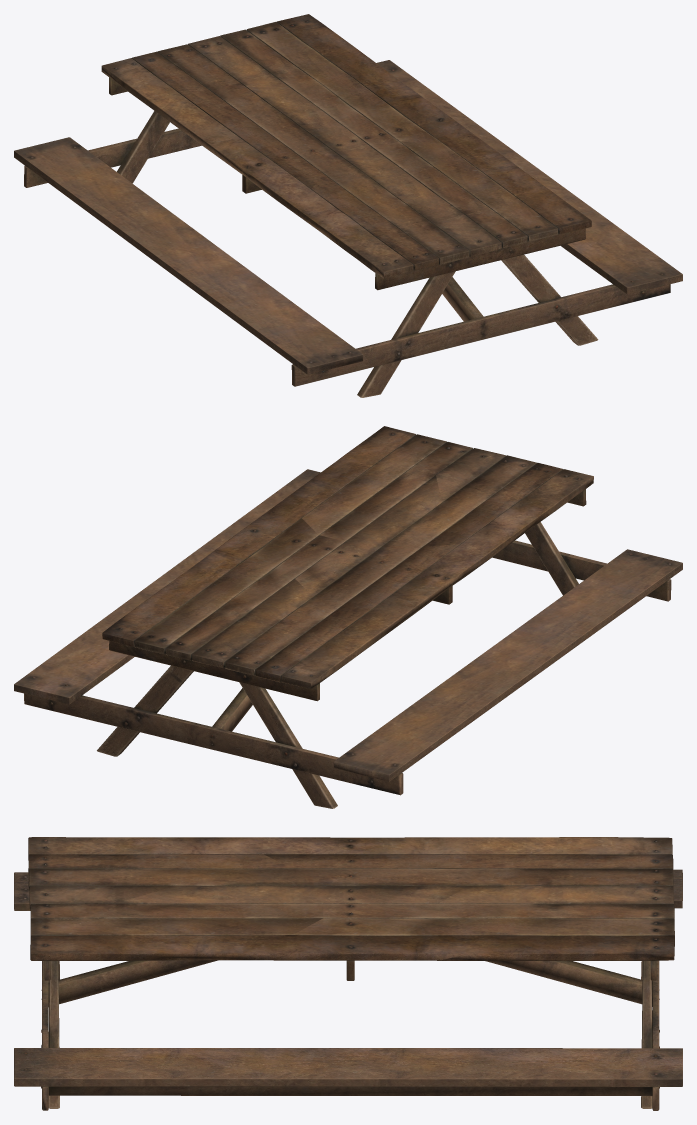
The model's file is wooden_picnic_table.glb.
3 views of the same model, one above another, from view 1: azimuth 30°, elevation 25°; view 2: azimuth 150°, elevation 25°; view 3: azimuth 270°, elevation 25° (orthographic). The views are drawn at different scales.
Parts seen in each view (by area): view 1: wooden_picnic_table; view 2: wooden_picnic_table; view 3: wooden_picnic_table.
Boxes of the visible parts, left/top/right/bottom form: wooden_picnic_table: left=14, top=14, right=682, bottom=397; wooden_picnic_table: left=14, top=426, right=682, bottom=808; wooden_picnic_table: left=14, top=837, right=682, bottom=1110.
Bounding box in the file's own units: 2.24 × 0.746 × 3.02.
Materials: 2 (2 with a texture image).
